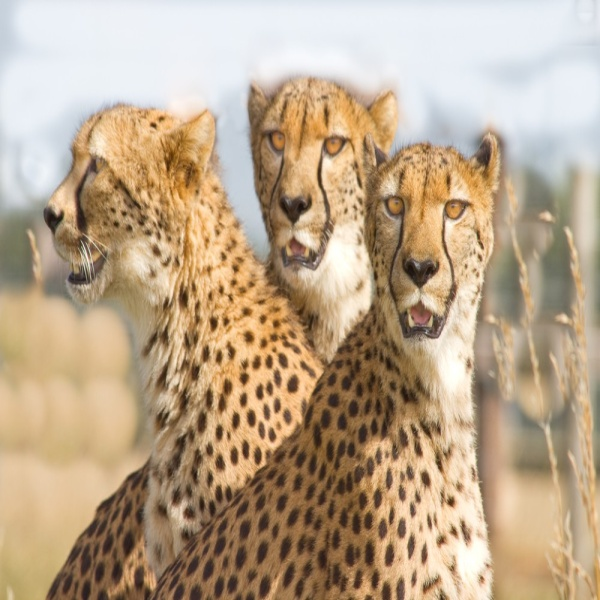Cheetah: (154, 131, 504, 600), (40, 95, 334, 593), (242, 72, 404, 363)
